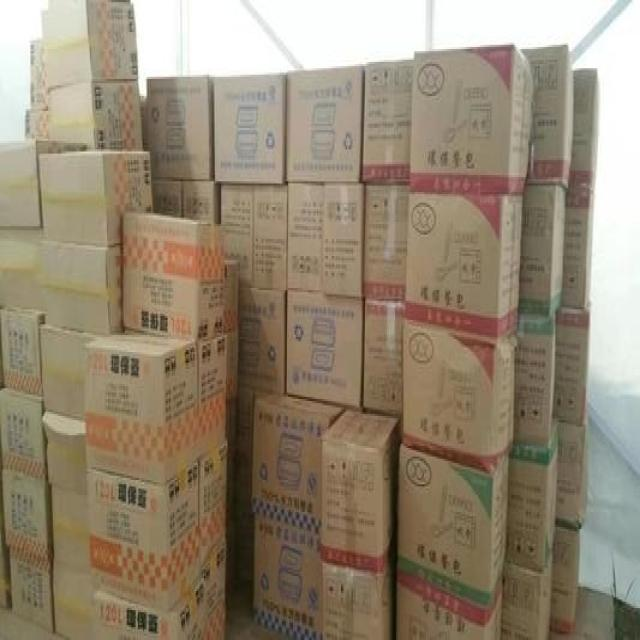box: (396, 441, 510, 627), (409, 43, 535, 194), (404, 191, 523, 347), (87, 460, 201, 614), (403, 321, 516, 475), (86, 331, 198, 485), (251, 393, 347, 536), (320, 409, 401, 573), (123, 213, 225, 343), (38, 152, 153, 248), (285, 290, 364, 409), (286, 65, 363, 182), (253, 516, 322, 638), (43, 1, 138, 89), (212, 74, 286, 184), (505, 422, 557, 574), (40, 243, 123, 337), (0, 140, 87, 228), (521, 45, 574, 189), (93, 575, 205, 638), (147, 77, 214, 180), (48, 81, 145, 152), (518, 183, 567, 320), (362, 60, 414, 185), (321, 556, 396, 638), (40, 324, 102, 422), (396, 583, 503, 638), (511, 314, 555, 447), (364, 183, 409, 301), (552, 301, 590, 437), (238, 288, 284, 395), (323, 182, 365, 297), (363, 298, 404, 414), (2, 469, 53, 560), (502, 550, 553, 638), (562, 185, 596, 309), (0, 389, 45, 480), (0, 306, 45, 397), (287, 182, 324, 291), (42, 411, 88, 497), (569, 69, 601, 191), (10, 546, 53, 635), (0, 228, 44, 312), (199, 440, 227, 569), (253, 185, 287, 291), (197, 335, 226, 459), (52, 484, 90, 576), (555, 422, 587, 530), (221, 182, 253, 287), (54, 562, 94, 638), (550, 527, 579, 631), (200, 545, 226, 638), (224, 262, 239, 400), (181, 179, 221, 224), (152, 178, 182, 216)
